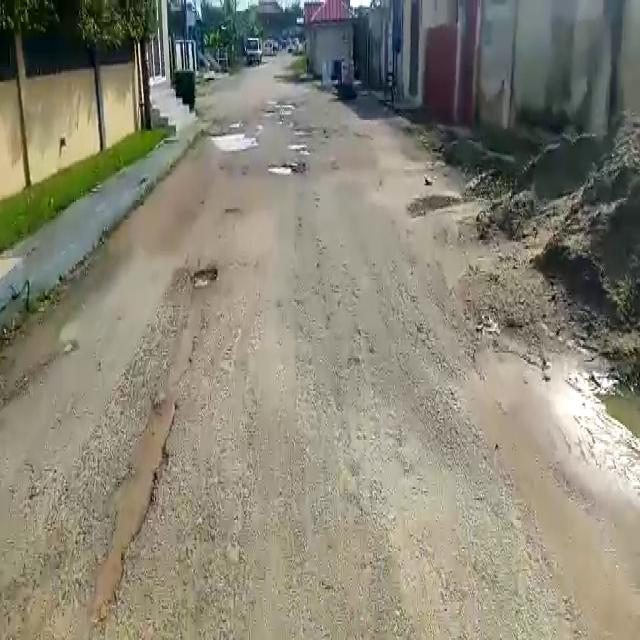Pothole: (205, 130, 259, 153), (266, 161, 301, 176), (192, 267, 218, 287)
